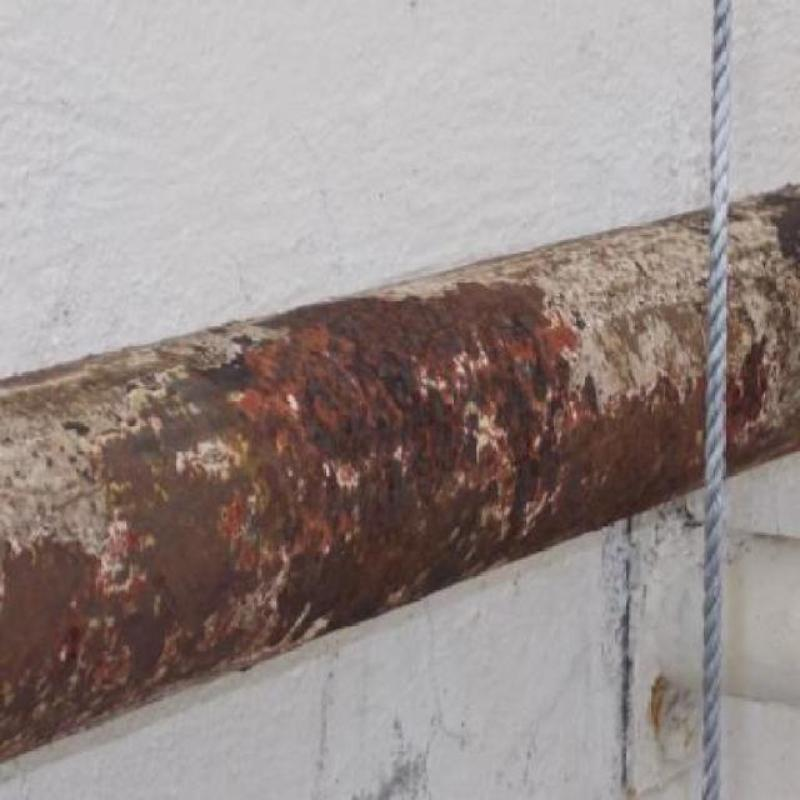corrosion: (0, 175, 799, 793)
